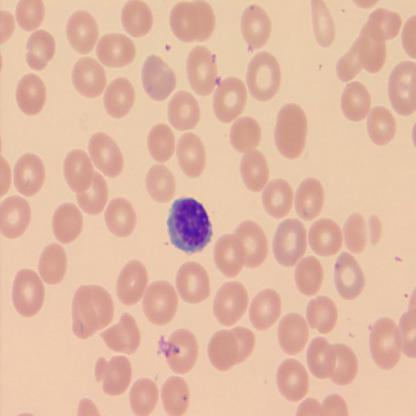NRC: (165, 193, 214, 256)
